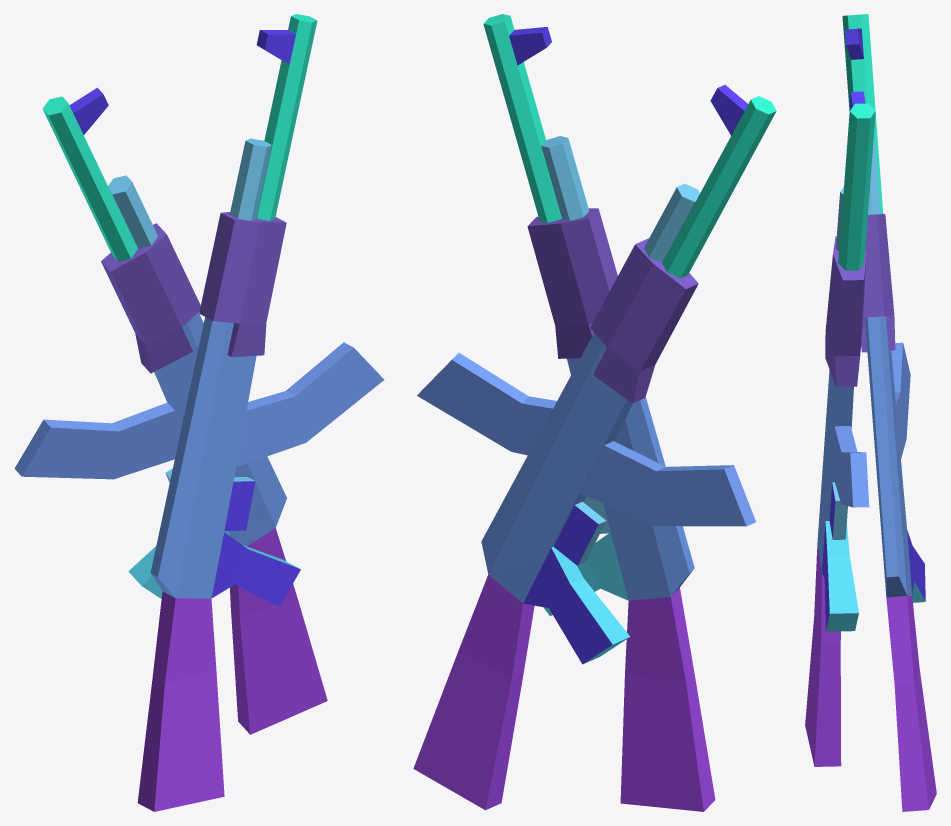
3 renders of one model, left to right at view 1: azimuth 30°, elevation 25°; view 2: azimuth 150°, elevation 25°; view 3: azimuth 270°, elevation 25°, orthographic. The views are drawn at different scales.
Visible parts, largest first — view 1: AK48; view 2: AK48; view 3: AK48.
Part boxes in pixels (x1,y1,x2,y2): AK48: (14,14,384,811); AK48: (413,14,776,811); AK48: (805,14,936,811).
Bounding box in the file's own units: 47.17 × 97.53 × 16.44.
